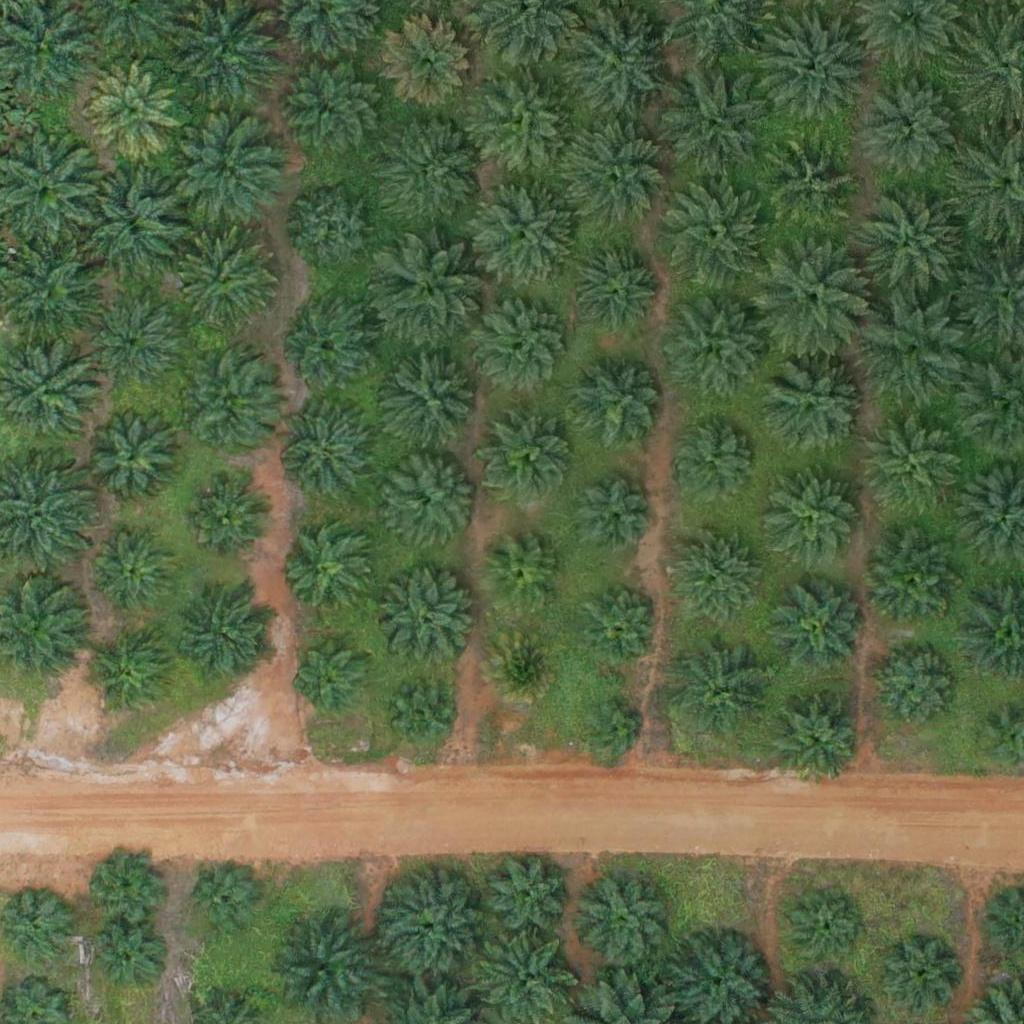Kelapa_Sawit: (169, 118, 282, 232), (853, 183, 966, 296), (562, 6, 675, 119), (78, 167, 190, 281), (859, 290, 971, 403), (757, 239, 869, 352), (656, 178, 768, 291), (756, 6, 868, 119), (660, 65, 772, 178), (378, 241, 490, 354), (866, 412, 966, 513), (865, 529, 965, 630), (764, 354, 864, 455), (763, 470, 863, 571), (667, 298, 767, 399), (564, 120, 664, 221), (475, 71, 575, 172), (1, 349, 101, 450), (282, 57, 382, 158), (384, 117, 484, 218), (177, 585, 277, 686), (378, 872, 478, 973), (766, 687, 866, 787), (672, 637, 772, 737), (474, 183, 574, 283), (472, 294, 572, 394), (176, 233, 276, 333), (180, 365, 280, 465), (382, 451, 482, 551), (378, 569, 478, 669), (767, 140, 855, 229), (87, 627, 175, 716), (871, 643, 959, 731), (485, 414, 573, 502), (382, 18, 470, 106), (85, 297, 173, 385), (87, 414, 175, 502), (388, 354, 476, 442), (189, 475, 277, 563), (90, 526, 178, 614), (776, 583, 863, 671), (670, 414, 757, 502), (672, 526, 759, 614), (569, 244, 656, 332), (575, 363, 662, 451), (868, 83, 955, 171), (89, 63, 176, 151), (290, 185, 377, 273), (291, 303, 378, 391), (282, 409, 369, 497), (288, 528, 375, 616), (483, 850, 570, 938), (577, 876, 664, 964), (485, 539, 560, 615), (575, 478, 650, 554), (788, 893, 863, 969), (582, 587, 657, 663), (486, 628, 561, 704), (384, 677, 459, 753), (885, 937, 960, 1012), (294, 636, 369, 711), (84, 847, 159, 922), (88, 925, 163, 1000), (186, 862, 261, 937), (584, 700, 646, 763)
